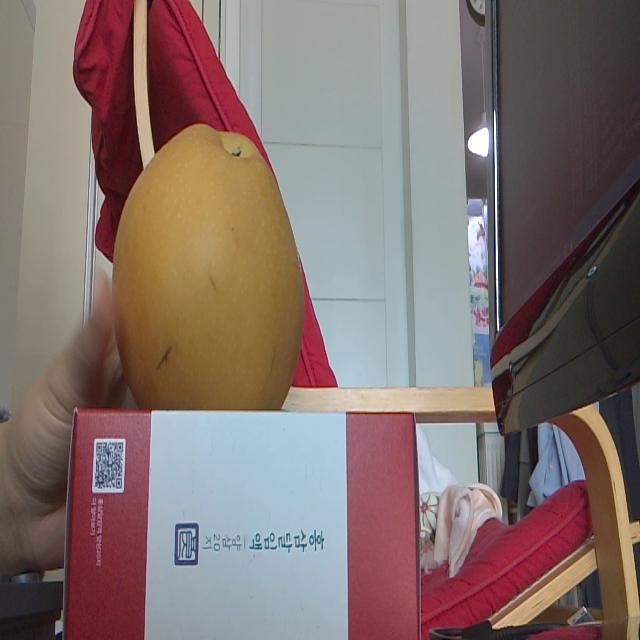pear: (113, 122, 304, 412)
